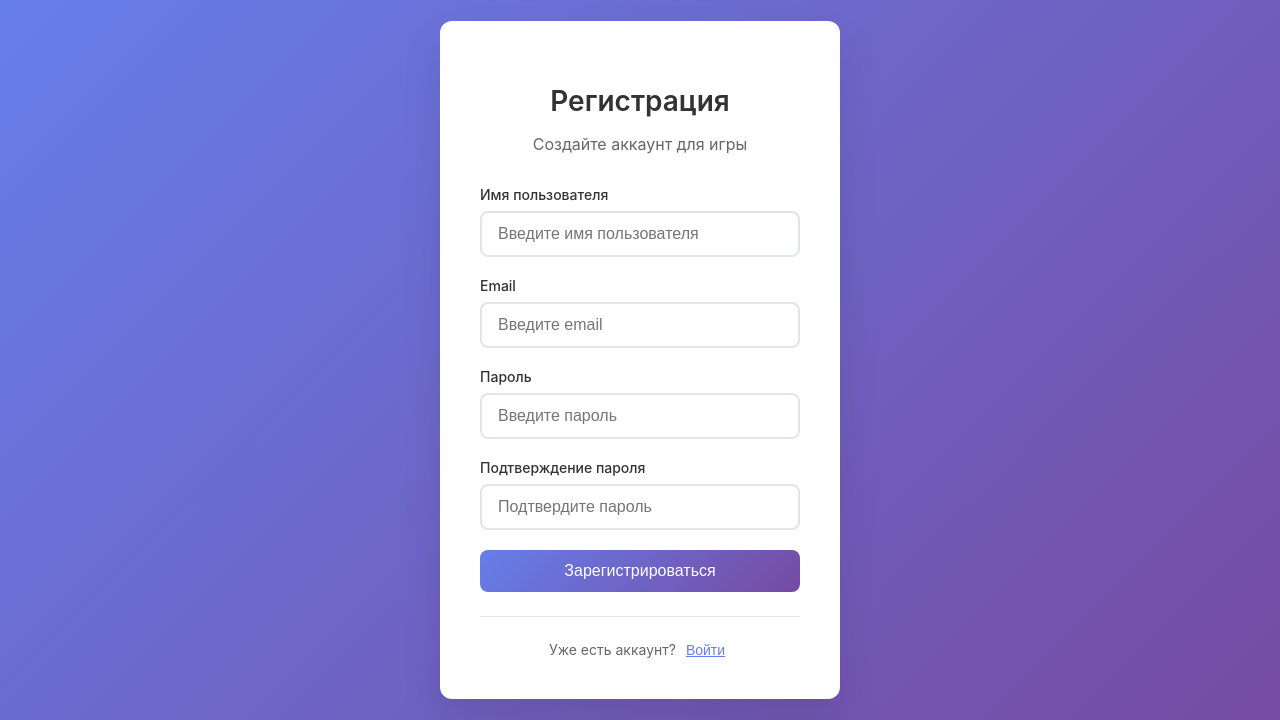
Scenario: RegisterForm › Validation - username › should show error when username is empty
This screenshot has width=1280, height=720.
Click the button "Зарегистрироваться" at (640, 571), box [480,550,800,592]
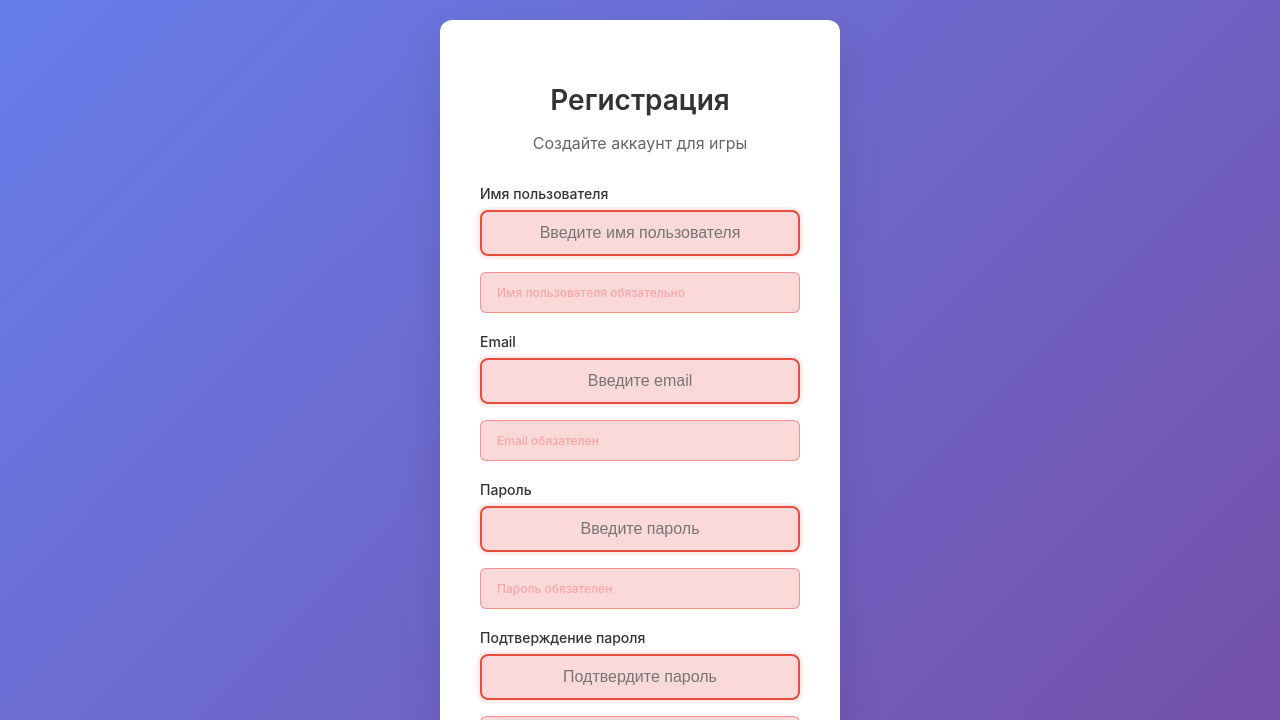
Expected: the text "Имя пользователя обязательно" is shown, [480,272,800,313]
